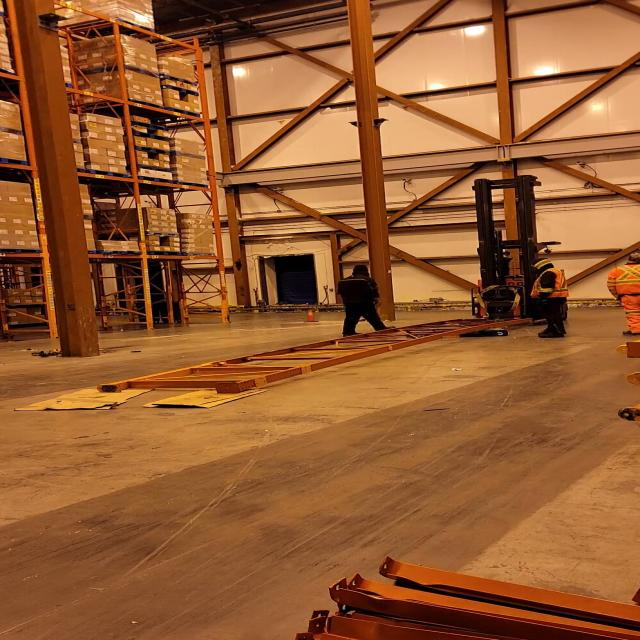forklift: (458, 179, 570, 328)
human: (524, 258, 573, 340), (336, 264, 391, 336), (607, 252, 640, 338)
objectofinterest: (94, 312, 536, 395), (16, 377, 163, 412), (137, 381, 271, 412), (450, 325, 509, 340)
